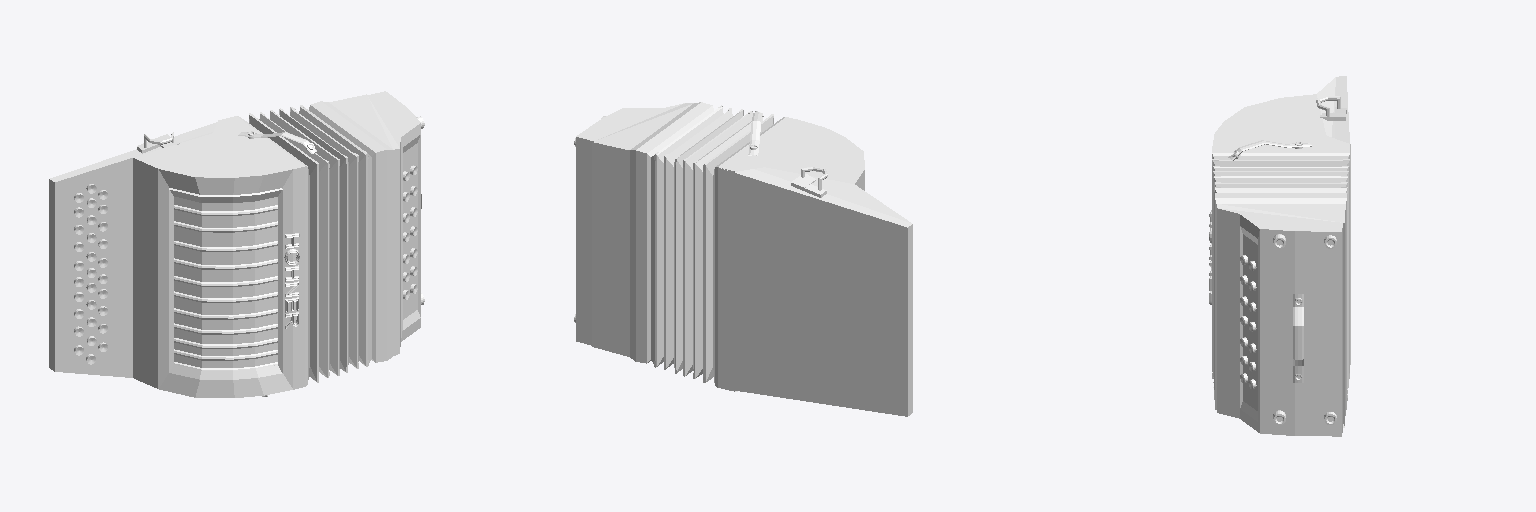
File: acordion.obj
3 views of the same model, side by side, from view 1: azimuth 30°, elevation 25°; view 2: azimuth 150°, elevation 25°; view 3: azimuth 270°, elevation 25° (orthographic).
Parts seen in each view (by area): view 1: acordion:Mesh; view 2: acordion:Mesh; view 3: acordion:Mesh.
Part boxes in pixels (x1,y1,x2,y2): acordion:Mesh: (49, 91, 424, 397); acordion:Mesh: (574, 102, 912, 416); acordion:Mesh: (1209, 76, 1350, 436).
Size of the model in its own units: 5.51 by 3.78 by 1.95.